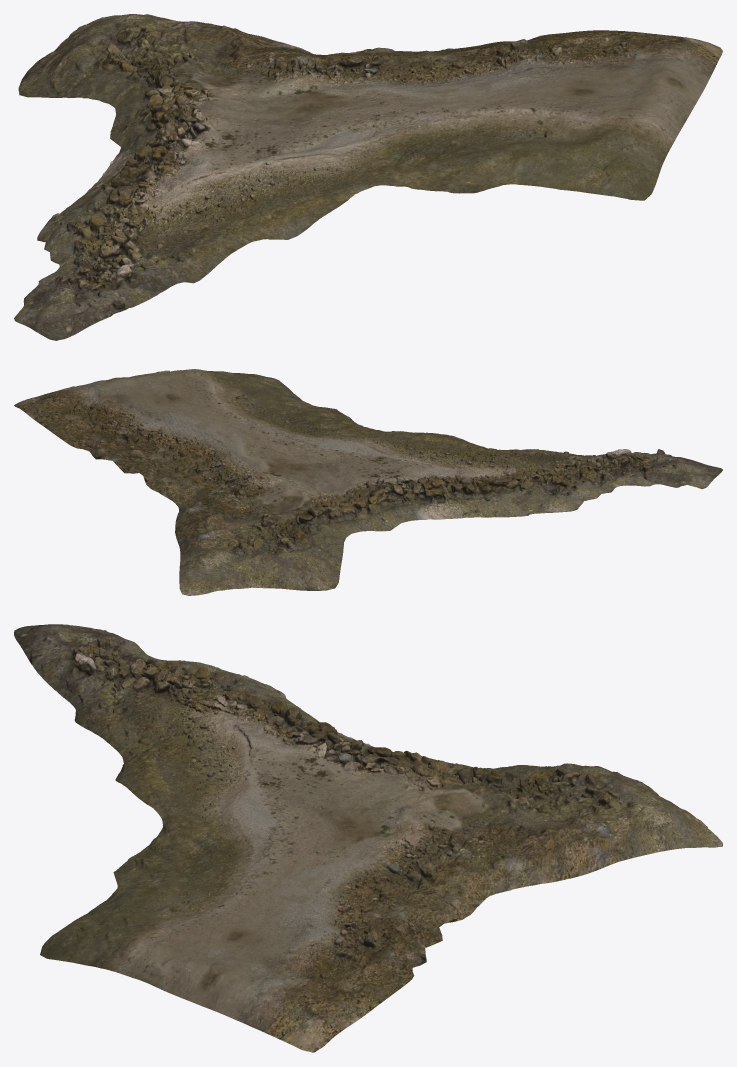
File: polyhaven-coast-rocks-01.glb
3 views of the same model, one above another, from view 1: azimuth 30°, elevation 25°; view 2: azimuth 150°, elevation 25°; view 3: azimuth 270°, elevation 25° (orthographic). The views are drawn at different scales.
Parts seen in each view (by area): view 1: coast_rocks_01; view 2: coast_rocks_01; view 3: coast_rocks_01.
Part boxes in pixels (x1,y1,x2,y2): coast_rocks_01: [14, 14, 722, 340]; coast_rocks_01: [14, 369, 722, 595]; coast_rocks_01: [14, 624, 722, 1052].
Size of the model in its own units: 59.51 by 3.29 by 42.52.
1 material, 1 textured.
